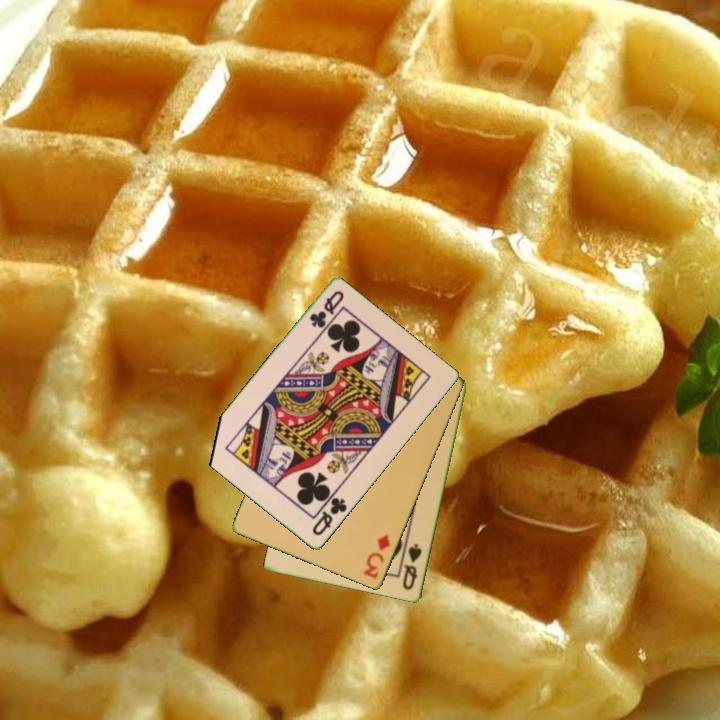3d: (360, 531, 393, 582)
Qc: (309, 494, 350, 539), (306, 287, 347, 331)
Qs: (399, 540, 425, 593)
